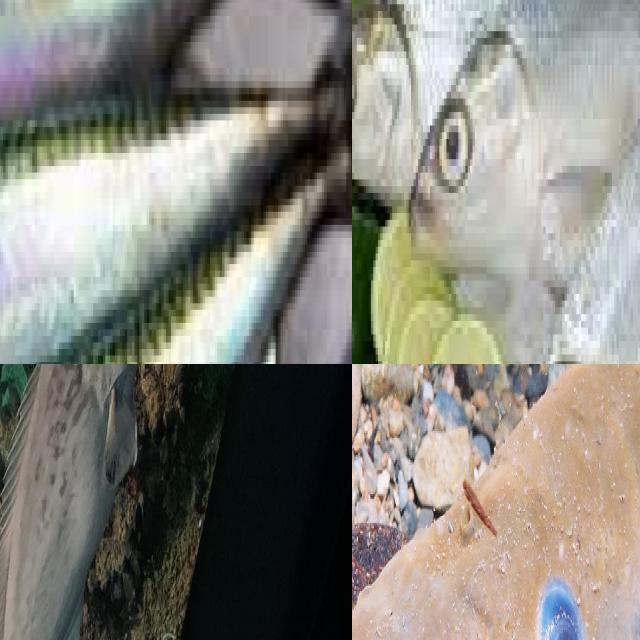fish: (0, 0, 352, 364), (425, 0, 640, 287), (0, 364, 154, 640)
